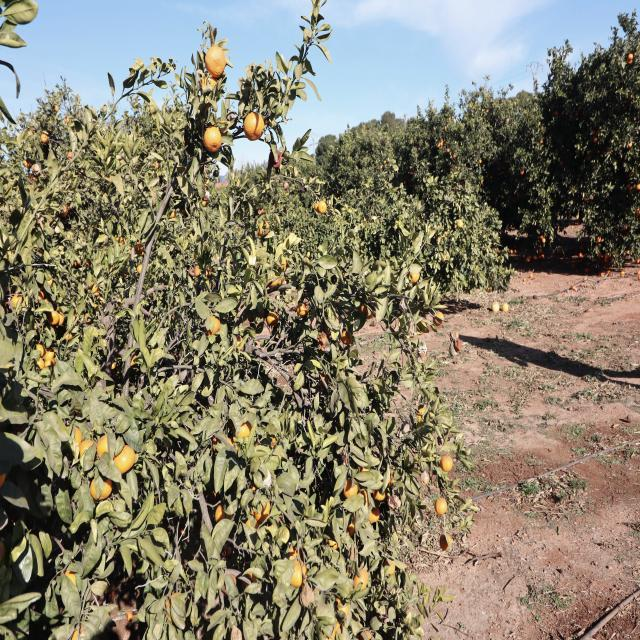Jeruk Sudah Matang: (112, 442, 142, 477), (247, 502, 282, 530), (244, 108, 266, 146), (289, 556, 314, 588), (88, 474, 116, 502), (202, 310, 227, 340), (206, 46, 227, 80), (202, 124, 224, 154), (96, 434, 120, 461), (214, 504, 237, 529), (351, 568, 372, 592), (78, 440, 96, 464), (366, 506, 384, 530), (295, 301, 312, 324), (344, 478, 362, 499), (373, 484, 390, 506), (407, 266, 424, 288), (432, 494, 448, 517), (255, 218, 272, 238), (416, 406, 432, 426), (265, 308, 280, 329), (440, 453, 455, 473), (316, 198, 330, 218), (340, 330, 354, 348), (11, 291, 24, 307), (39, 130, 52, 144), (49, 308, 59, 326), (44, 350, 54, 368), (35, 346, 44, 358), (53, 102, 62, 114), (36, 356, 42, 372)
